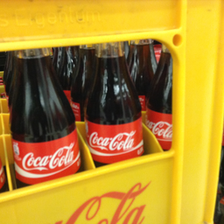soda: (10, 49, 80, 186), (85, 43, 144, 164)
